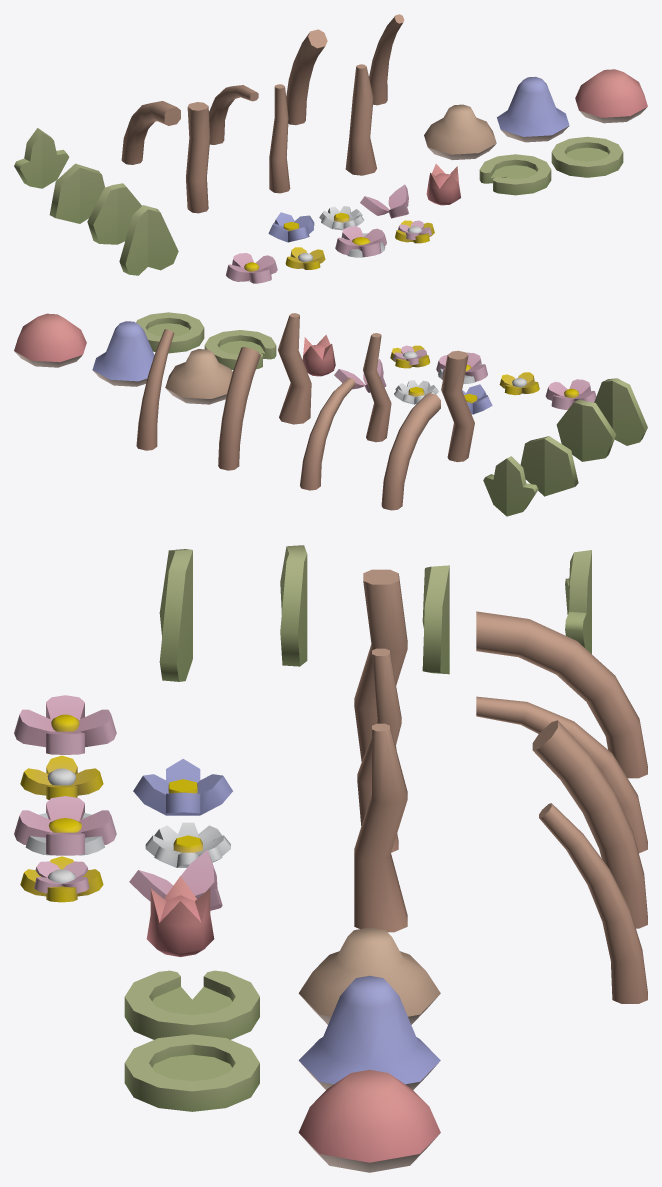
Rendered from studio-organic.glb.
The picture shows the model from 3 angles, top to bottom: view 1: azimuth 30°, elevation 25°; view 2: azimuth 150°, elevation 25°; view 3: azimuth 270°, elevation 25°; orthographic projection. The views are drawn at different scales.
Parts seen in each view (by area): view 1: mushroom-b, mushroom-c, leaf-d, mushroom-a, lilypad-closed, lilypad-open, twig-a, leaf-b, twig-b, leaf-c, leaf-a, twig-curved-a (+12 smaller); view 2: mushroom-c, mushroom-b, mushroom-a, twig-curved-a, twig-curved-large-a, leaf-c, leaf-b, twig-a, twig-b, leaf-d, twig-curved-b, twig-curved-large-b (+12 smaller); view 3: mushroom-c, mushroom-b, twig-curved-large-a, lilypad-closed, twig-a, twig-curved-a, lilypad-open, mushroom-a, twig-curved-b, twig-b, flower-e-detailed, twig-curved-large-b (+12 smaller).
Boxes of the visible parts, x1,y1,x2,y2 form: mushroom-b: (497, 76, 569, 142); mushroom-c: (575, 69, 647, 123); leaf-d: (119, 205, 178, 275); mushroom-a: (424, 104, 496, 160); lilypad-closed: (551, 136, 623, 177); lilypad-open: (479, 154, 551, 195); twig-a: (345, 64, 376, 175); leaf-b: (49, 163, 104, 223); twig-b: (186, 102, 210, 213); leaf-c: (87, 183, 141, 244); leaf-a: (14, 128, 69, 188); twig-curved-a: (286, 29, 327, 125); mushroom-c: (14, 313, 86, 367); mushroom-b: (92, 321, 154, 386); mushroom-a: (165, 349, 232, 404); twig-curved-a: (218, 347, 260, 470); twig-curved-large-a: (381, 393, 440, 510); leaf-c: (556, 399, 616, 461); leaf-b: (520, 436, 578, 496); twig-a: (278, 313, 311, 424); twig-b: (441, 350, 474, 462); leaf-d: (594, 378, 647, 445); twig-curved-b: (136, 329, 174, 450); twig-curved-large-b: (300, 377, 355, 490); mushroom-c: (298, 1069, 440, 1172); mushroom-b: (298, 975, 440, 1089); twig-curved-large-a: (476, 611, 647, 778); lilypad-closed: (124, 1034, 259, 1111); twig-a: (354, 723, 407, 932); twig-curved-a: (532, 720, 647, 928); lilypad-open: (124, 970, 259, 1039); mushroom-a: (298, 927, 440, 1024); twig-curved-b: (539, 803, 647, 1003); twig-b: (354, 569, 407, 761); flower-e-detailed: (14, 796, 116, 855); twig-curved-large-b: (476, 696, 647, 853).
Size of the model in its own units: 1.76 by 0.3055 by 0.8905.
